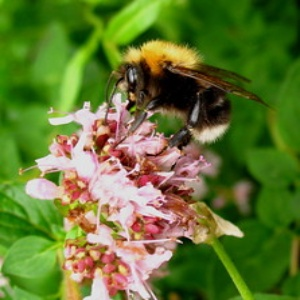bee: (105, 36, 277, 156)
